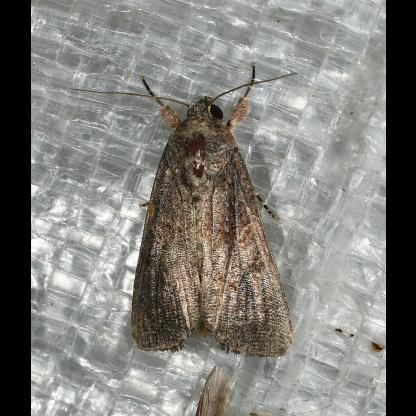Fall Armyworm Moth: (66, 61, 302, 363)
